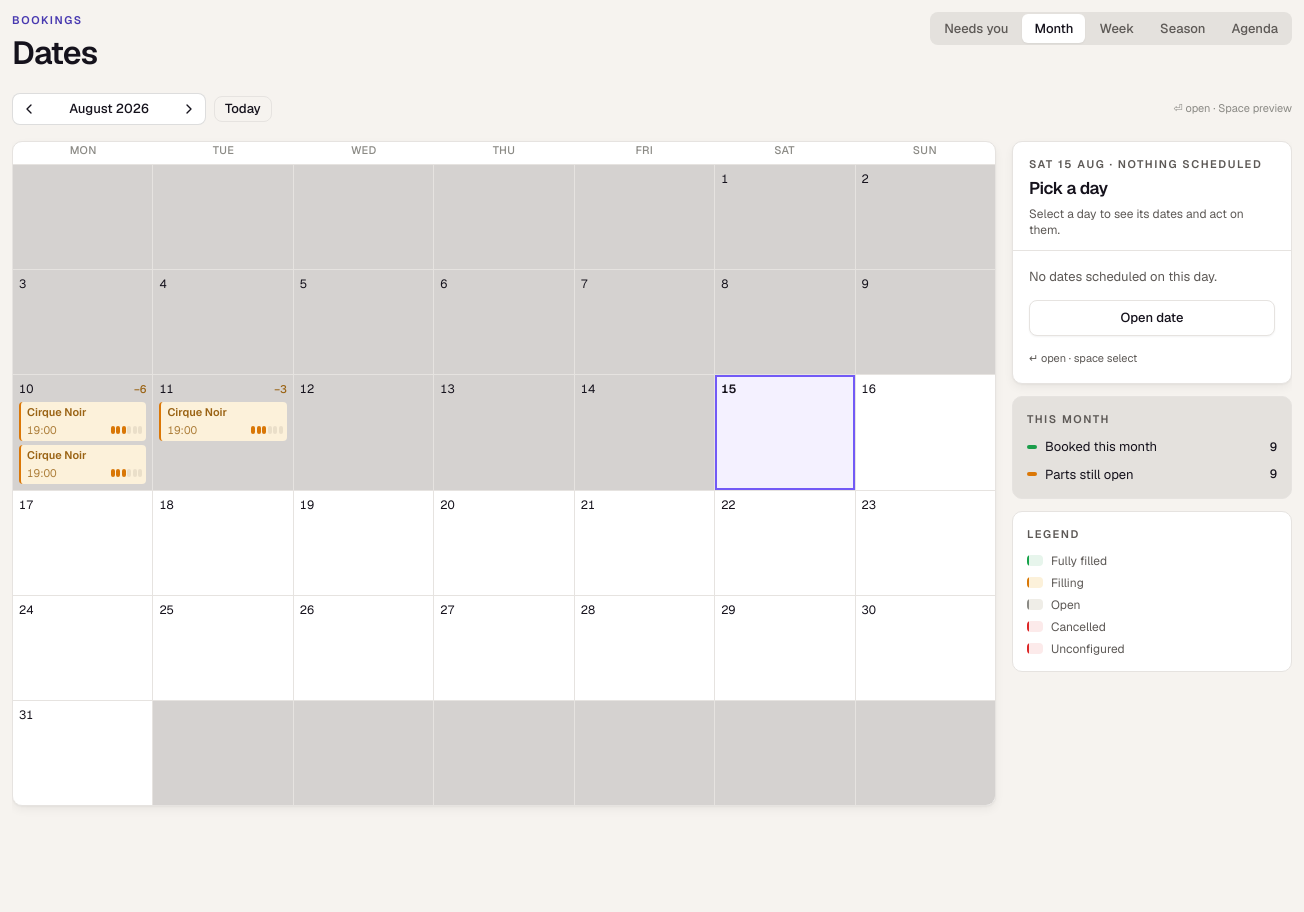
Test: CalendarSurface — range selection + SelectionBar (producer, month lens) › a range over a day with two producer entries dispatches both ids and the count includes both
Later steps or results of the test are not shown.
Press the mouse on the button with test id "month-grid-cell-2026-08-10": point(83, 432) [13, 375, 152, 490]
Hover over the button with test id "month-grid-cell-2026-08-11": point(223, 432) [153, 375, 293, 490]
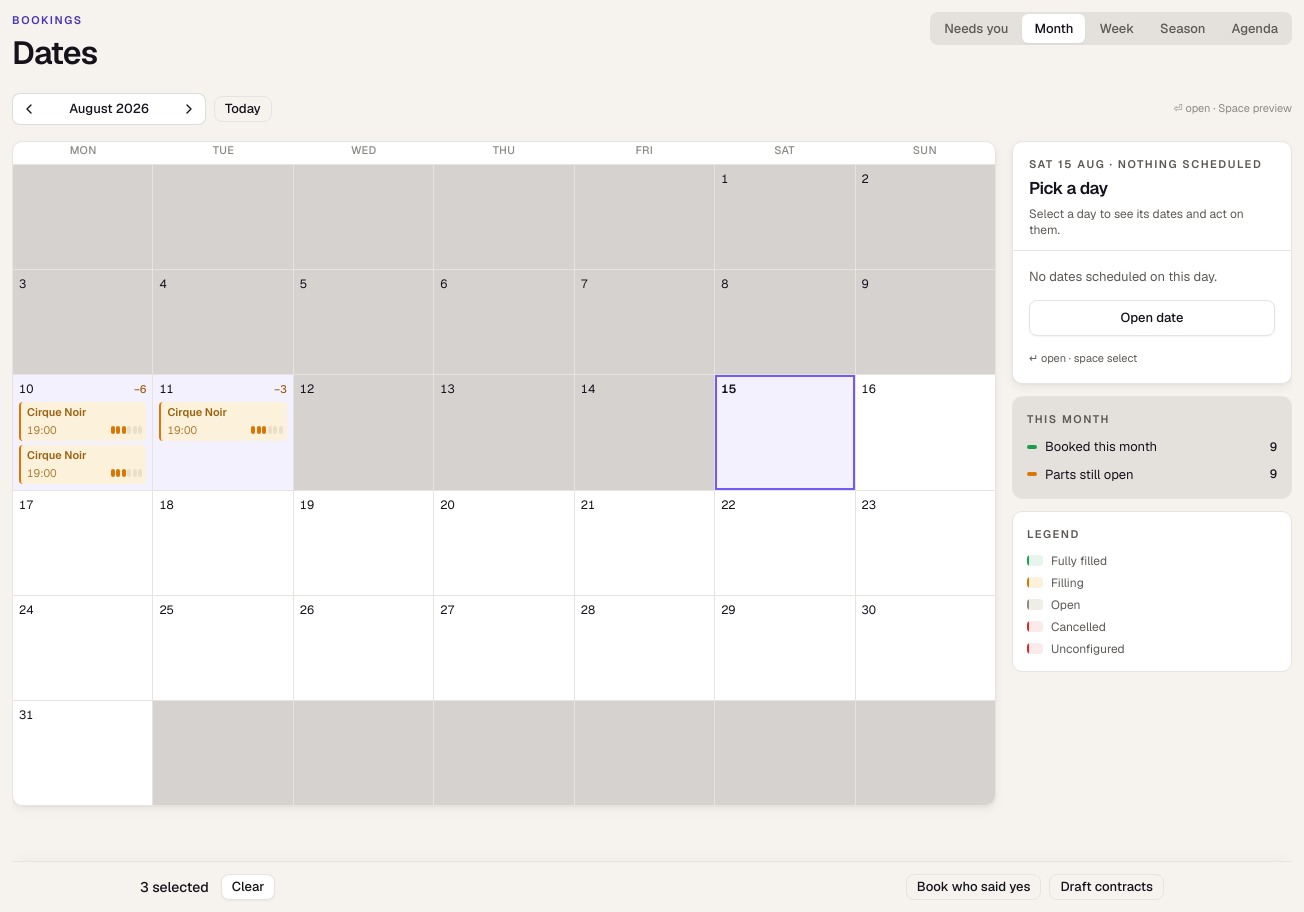
Result: the element with test id "selection-bar" shows "3 selected" at [140, 878, 209, 896]
